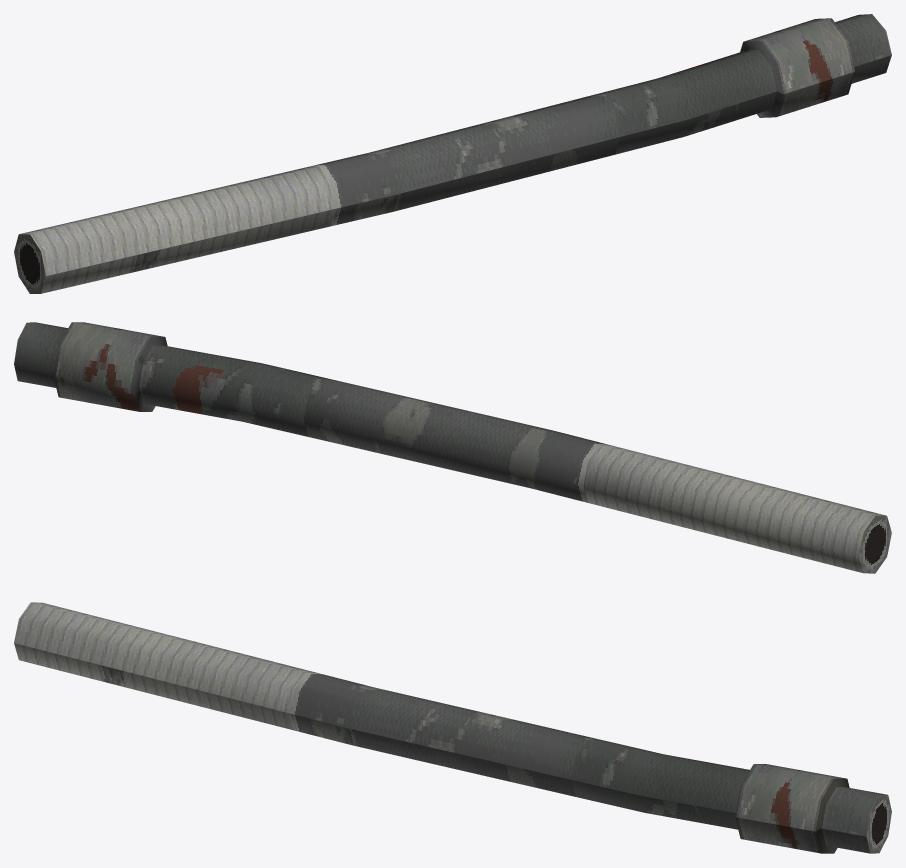
File: lead_pipe.glb
3 views of the same model, one above another, from view 1: azimuth 30°, elevation 25°; view 2: azimuth 150°, elevation 25°; view 3: azimuth 330°, elevation 25° (orthographic). The views are drawn at different scales.
Visible parts, largest first — view 1: lead_pipe; view 2: lead_pipe; view 3: lead_pipe.
Boxes of the visible parts, left/top/right/bottom form: lead_pipe: left=14, top=14, right=891, bottom=293; lead_pipe: left=14, top=322, right=891, bottom=573; lead_pipe: left=14, top=602, right=891, bottom=853.
Size of the model in its own units: 0.4973 by 0.0424 by 0.0537.
Materials: 1 (1 with a texture image).
